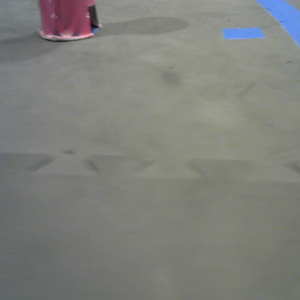middle: (37, 1, 101, 40)
